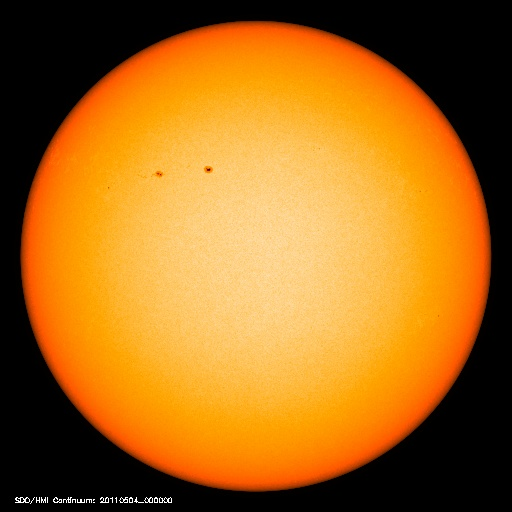sunspot: (135, 160, 223, 186)
